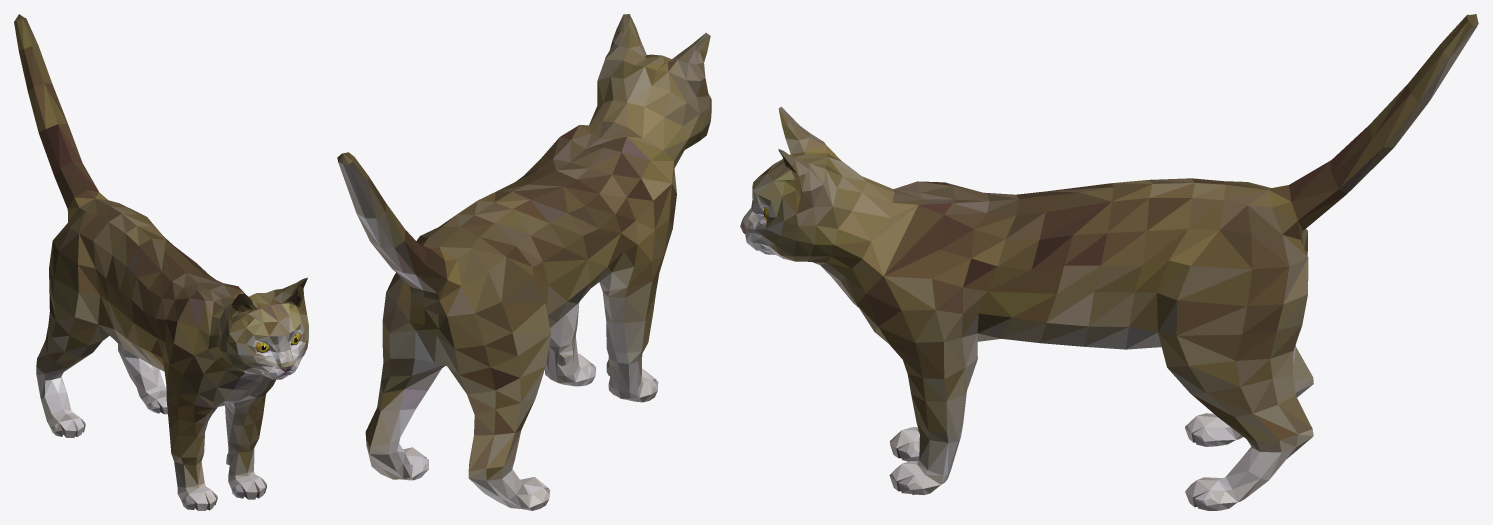
The model's file is Cat.FBX.
The picture shows the model from 3 angles, left to right: view 1: azimuth 30°, elevation 25°; view 2: azimuth 150°, elevation 25°; view 3: azimuth 270°, elevation 25°; orthographic projection. The views are drawn at different scales.
Visible parts, largest first — view 1: Cat; view 2: Cat; view 3: Cat.
Boxes of the visible parts, x1,y1,x2,y2 form: Cat: (14,14,308,510); Cat: (337,14,711,510); Cat: (740,14,1478,510).
Size of what is drawn, in the model's own units: 14.71 by 54.63 by 37.3.
Materials: 1 (1 with a texture image).
